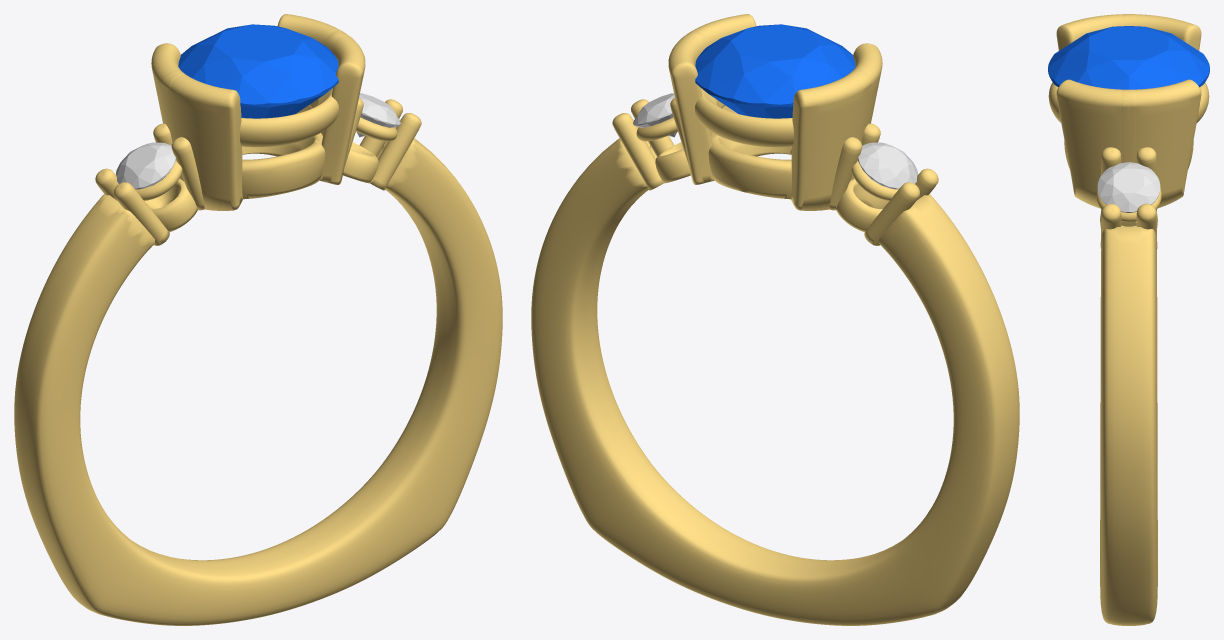
File: bluesapphire-round-yellowgold-halfmoonbezel-europeanshank-2stone.glb
3 views of the same model, side by side, from view 1: azimuth 30°, elevation 25°; view 2: azimuth 150°, elevation 25°; view 3: azimuth 270°, elevation 25° (orthographic). The views are drawn at different scales.
Parts seen in each view (by area): view 1: metal, stone, side.001, side; view 2: metal, stone, side.001, side; view 3: metal, stone, side.
Boxes of the visible parts, bbox=[...] form: metal: bbox=[14, 14, 502, 625]; stone: bbox=[178, 24, 338, 118]; side.001: bbox=[116, 142, 175, 189]; side: bbox=[356, 93, 400, 137]; metal: bbox=[531, 14, 1019, 625]; stone: bbox=[695, 24, 855, 118]; side.001: bbox=[858, 142, 917, 189]; side: bbox=[633, 93, 677, 137]; metal: bbox=[1048, 14, 1209, 625]; stone: bbox=[1048, 26, 1209, 89]; side: bbox=[1097, 162, 1160, 212].
Size of the model in its own units: 20.71 by 23.81 by 6.44.
